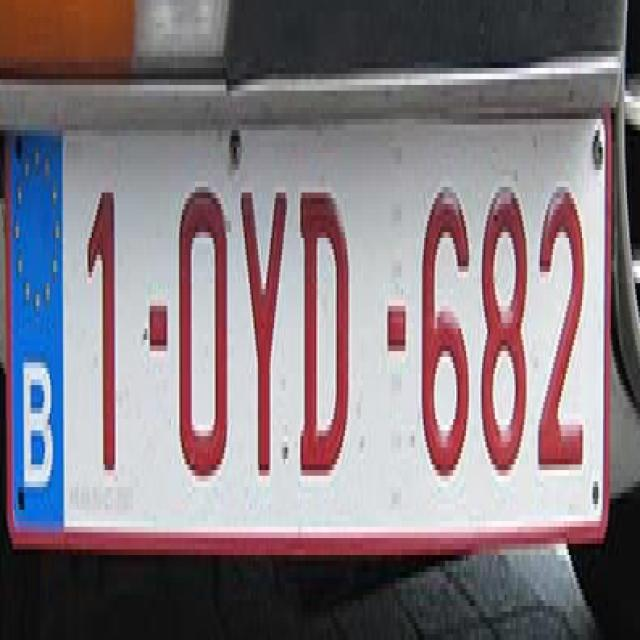Belgique: (10, 132, 66, 535)
EU: (7, 105, 612, 561)
